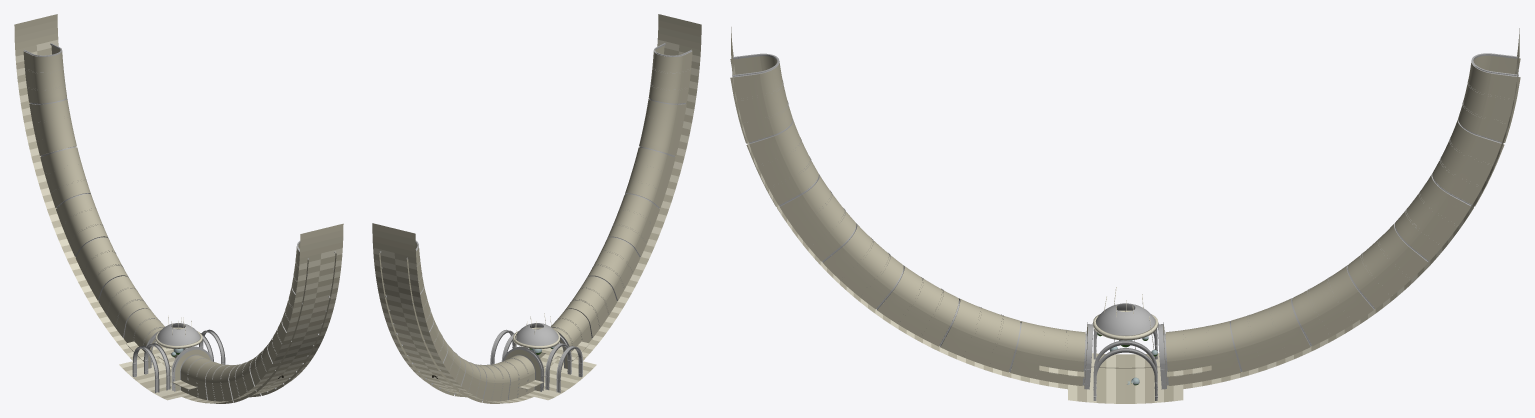
The model's file is RingTest1.1.fbx.
3 views of the same model, side by side, from view 1: azimuth 30°, elevation 25°; view 2: azimuth 150°, elevation 25°; view 3: azimuth 270°, elevation 25° (orthographic). The views are drawn at different scales.
Visible parts, largest first — view 1: Cylinder.007, Cylinder.008, Sphere.001, Cylinder.009; view 2: Cylinder.007, Cylinder.008, Sphere.001, Cylinder.009; view 3: Cylinder.007, Cylinder.008, Sphere.001, Cylinder.009.
Boxes of the visible parts, x1,y1,x2,y2 form: Cylinder.007: (23, 43, 336, 403); Cylinder.008: (14, 14, 343, 403); Sphere.001: (132, 315, 225, 393); Cylinder.009: (126, 341, 196, 389); Cylinder.007: (379, 43, 692, 403); Cylinder.008: (372, 14, 701, 403); Sphere.001: (490, 313, 582, 393); Cylinder.009: (519, 341, 589, 389); Cylinder.007: (730, 53, 1520, 389); Cylinder.008: (731, 27, 1519, 403); Sphere.001: (1093, 287, 1158, 400); Cylinder.009: (1039, 359, 1211, 377).
Bounding box in the file's own units: 2278 × 7506 × 15347.
